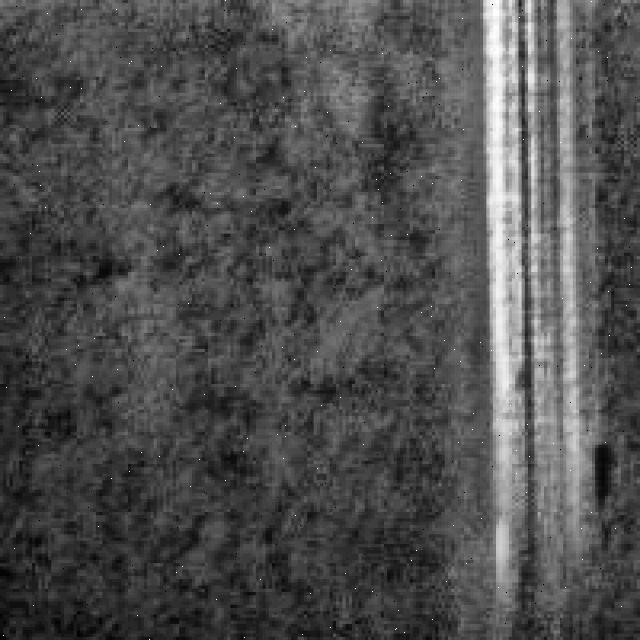Inclusion: (483, 0, 586, 576)
